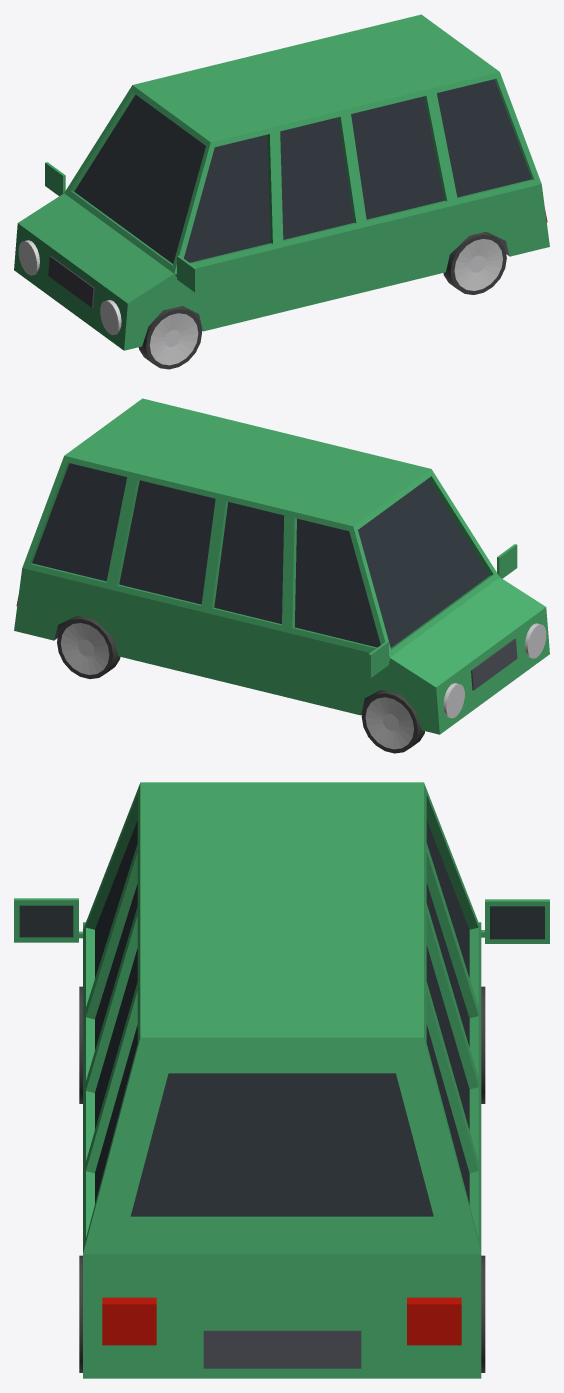
The model's file is car4.FBX.
3 views of the same model, one above another, from view 1: azimuth 30°, elevation 25°; view 2: azimuth 150°, elevation 25°; view 3: azimuth 270°, elevation 25° (orthographic). The views are drawn at different scales.
Parts seen in each view (by area): view 1: car4; view 2: car4; view 3: car4.
Part boxes in pixels (x1,y1,x2,y2): car4: [14, 14, 549, 369]; car4: [14, 398, 549, 753]; car4: [14, 782, 549, 1378].
Size of the model in its own units: 12.5 by 5.57 by 7.46.
